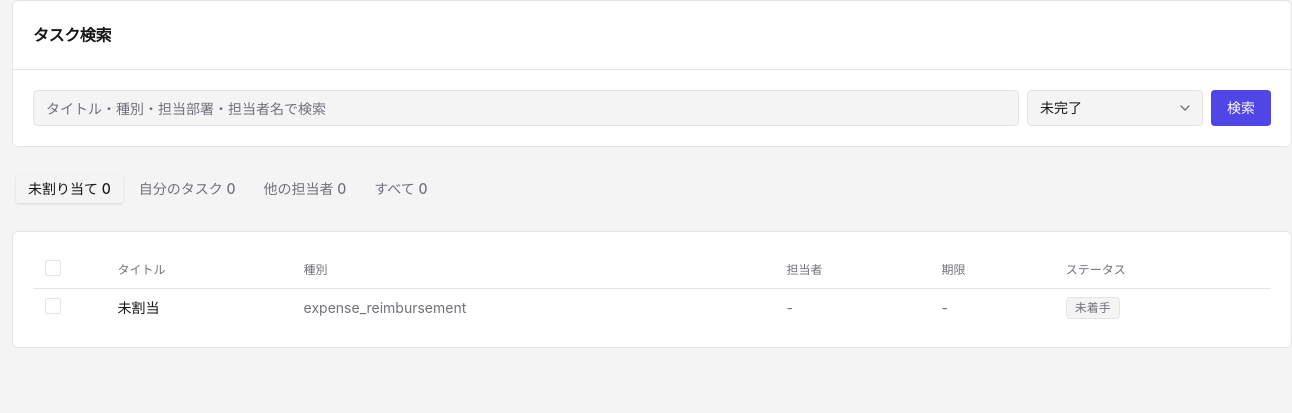
Test case: BackOfficeTaskListPage › clears the selection when the tab changes
What coordinates should you click on to do the following:
click the checkbox named "未割当を選択"
I would click on:
 (53, 306)
Its box is [45,298,61,314].
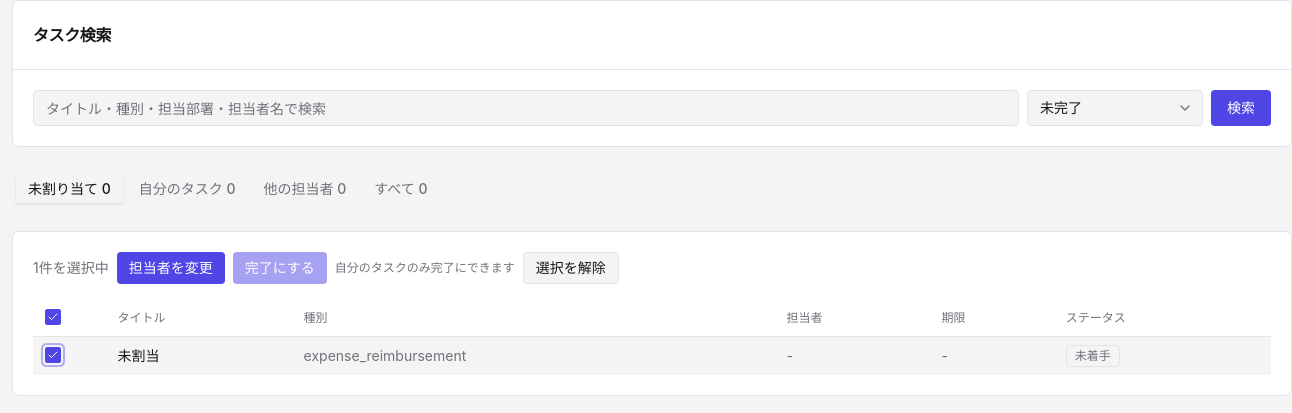
Result: the text "1件を選択中" is shown at [33,258,109,278]
What coordinates should you click on to do the following:
click the tab with aria-label "すべて(0件)"
I would click on:
 (401, 189)
Its box is [362,175,440,203].
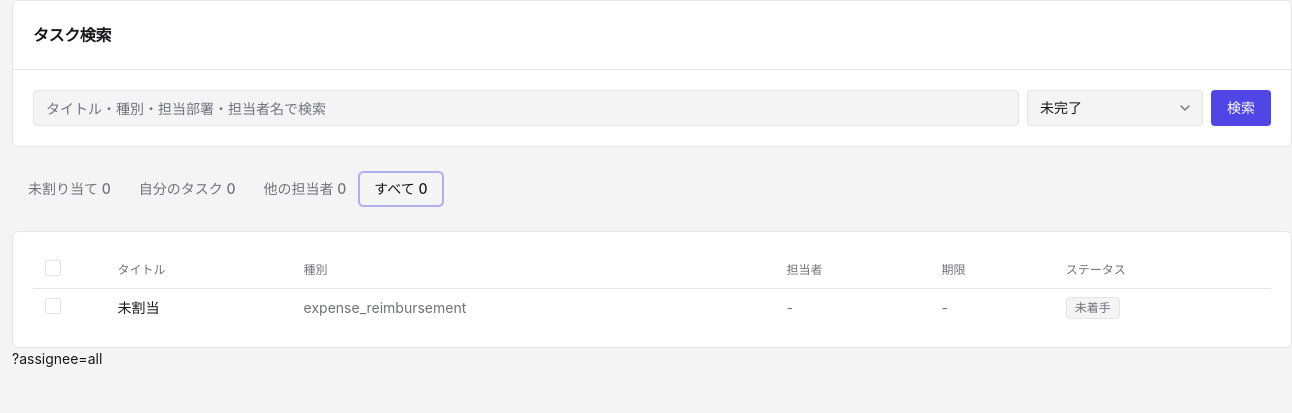
Result: the text "1件を選択中" is gone
